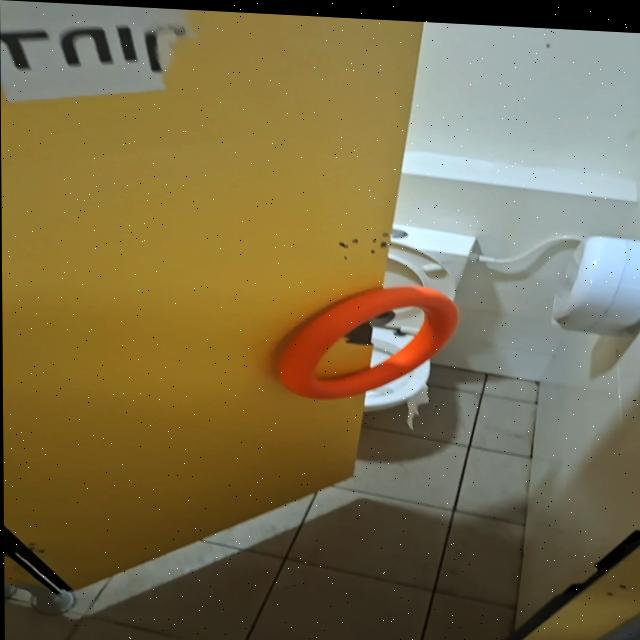note: (275, 274, 461, 403)
